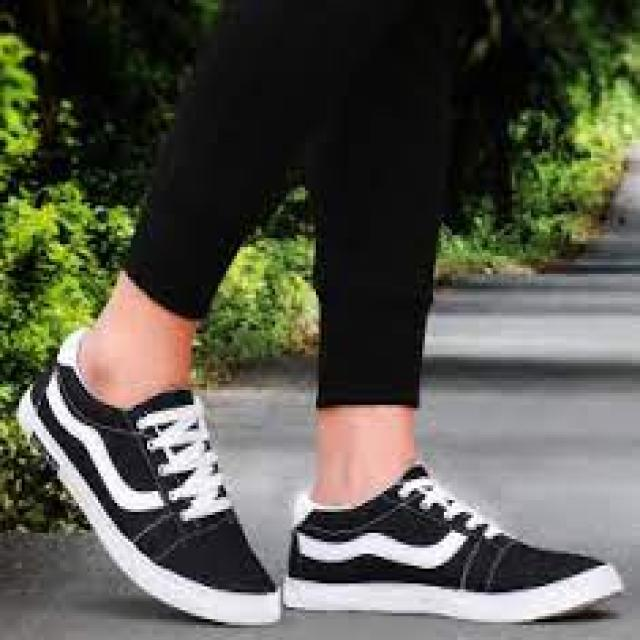shoe: (12, 326, 286, 635), (282, 466, 624, 618)
